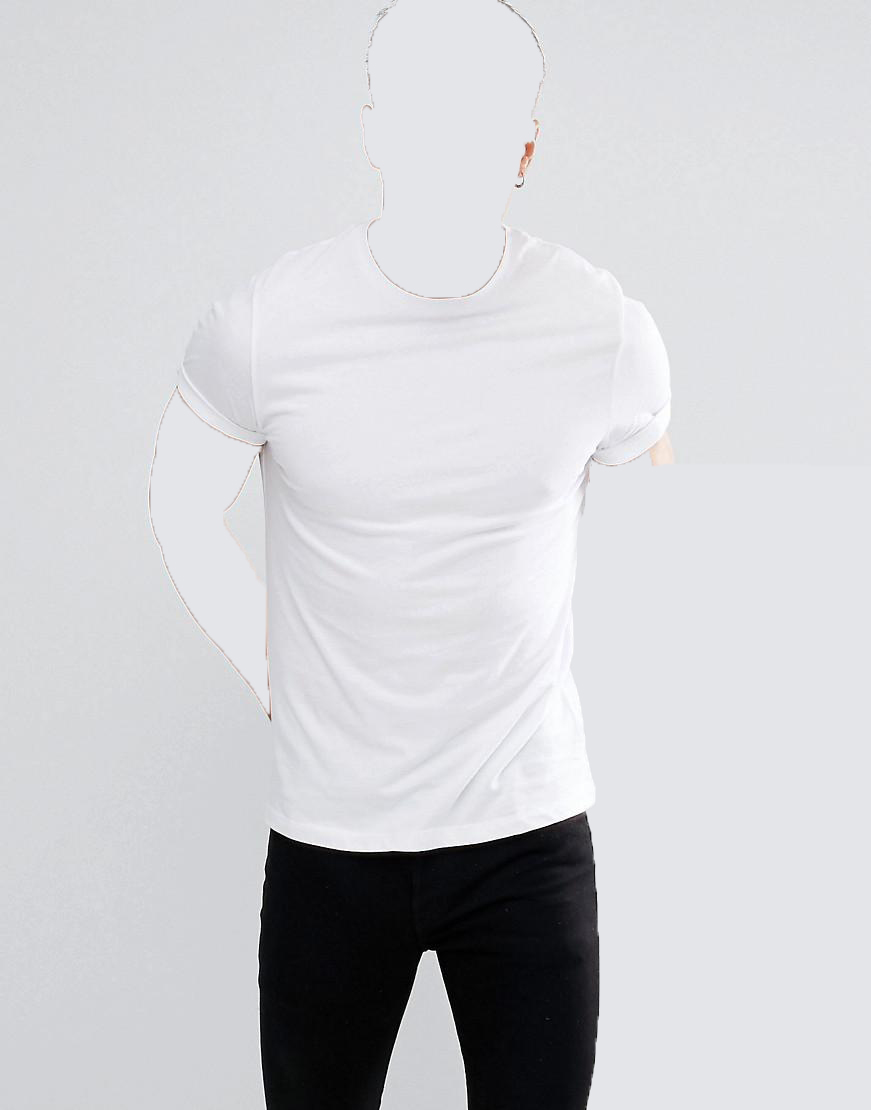teeshirt: (135, 222, 666, 868)
